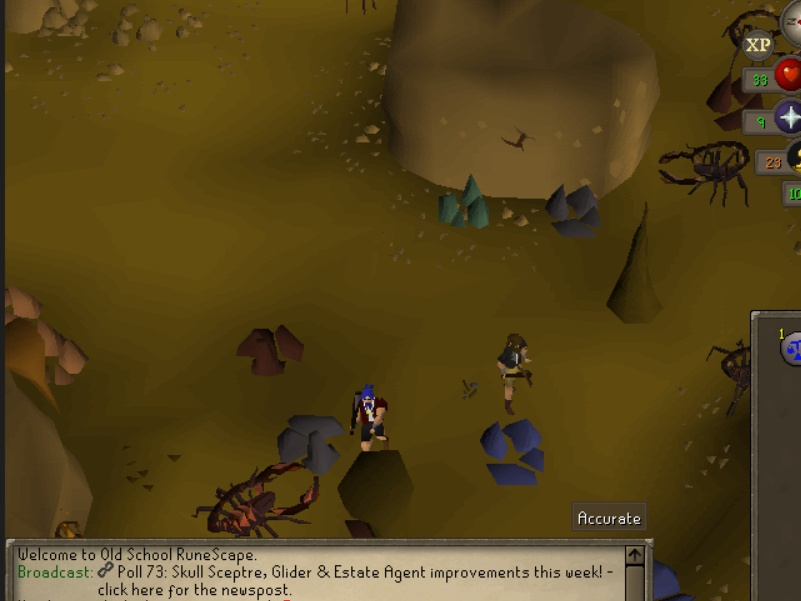adamant: (436, 169, 494, 233)
copper: (34, 320, 89, 384), (1, 281, 45, 329)
iron: (238, 322, 303, 378), (705, 73, 770, 129)
mithril: (475, 415, 558, 487), (652, 552, 685, 600)
